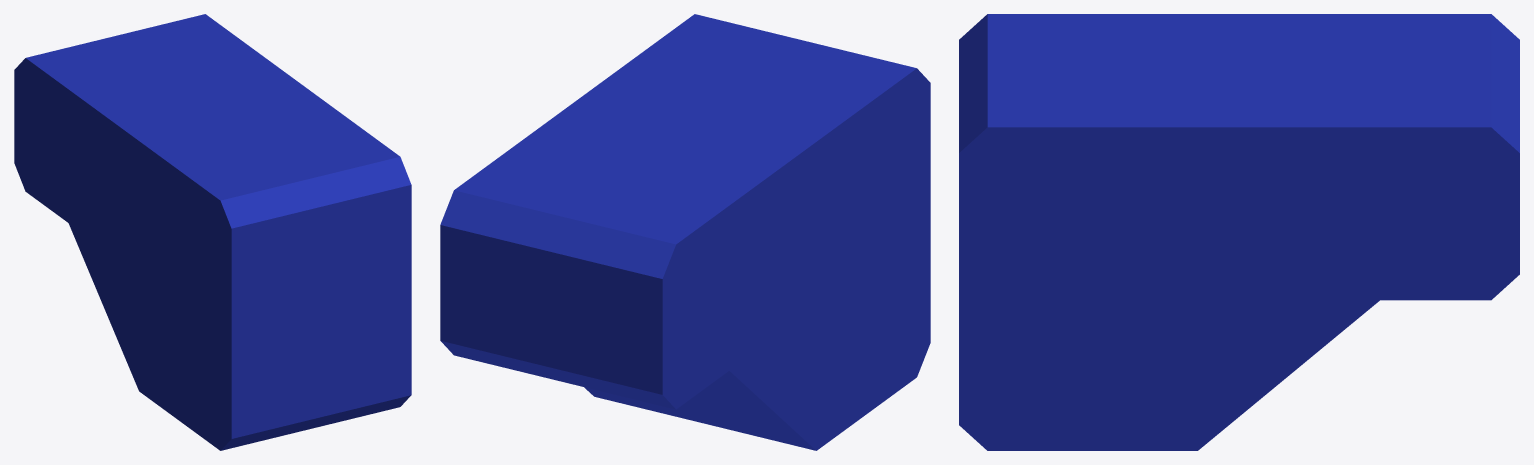
File: Turret_Hub01.FBX
3 renders of one model, left to right at view 1: azimuth 30°, elevation 25°; view 2: azimuth 150°, elevation 25°; view 3: azimuth 270°, elevation 25°, orthographic. The views are drawn at different scales.
Parts seen in each view (by area): view 1: Hub; view 2: Hub; view 3: Hub.
Boxes of the visible parts, x1,y1,x2,y2 form: Hub: (14,14,411,450); Hub: (440,14,930,450); Hub: (959,14,1519,450).
Bounding box in the file's own units: 37.11 × 77.51 × 49.32.
